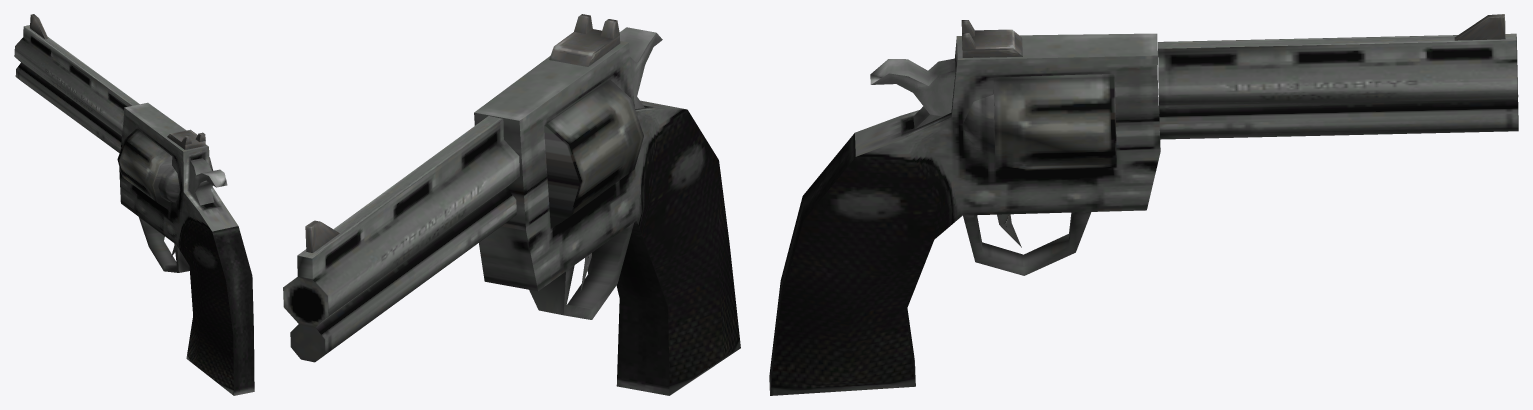
3 renders of one model, left to right at view 1: azimuth 30°, elevation 25°; view 2: azimuth 150°, elevation 25°; view 3: azimuth 270°, elevation 25°, orthographic. The views are drawn at different scales.
Parts seen in each view (by area): view 1: w_357_reference; view 2: w_357_reference; view 3: w_357_reference.
Boxes of the visible parts, bbox=[...] form: w_357_reference: bbox=[14, 14, 254, 395]; w_357_reference: bbox=[283, 14, 740, 395]; w_357_reference: bbox=[769, 14, 1518, 395].
Bounding box in the file's own units: 220 × 750 × 1357.
